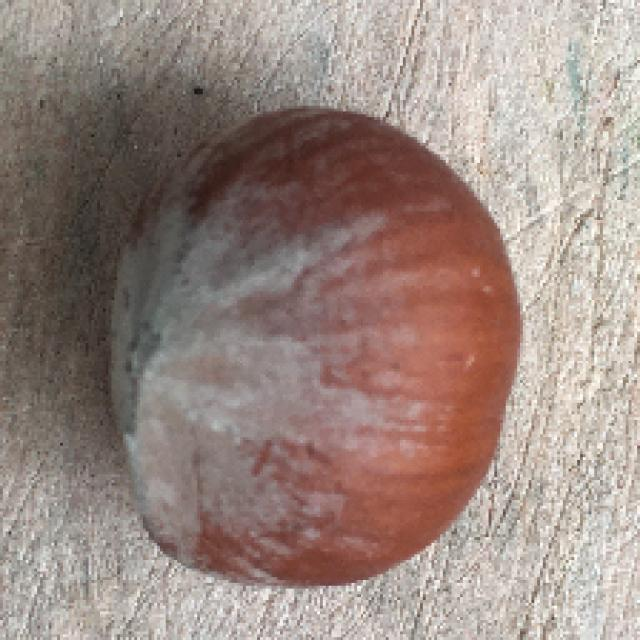qualityHazelnut: (96, 103, 528, 590)
